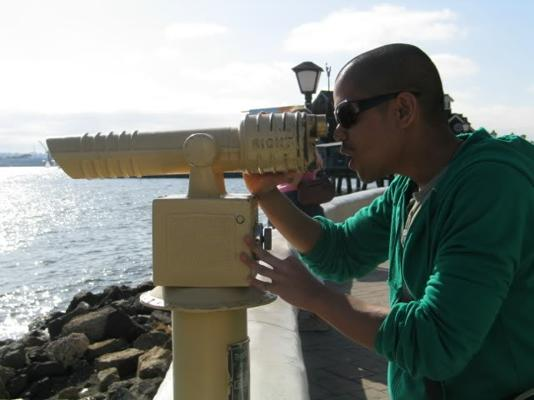person: (241, 44, 533, 400)
